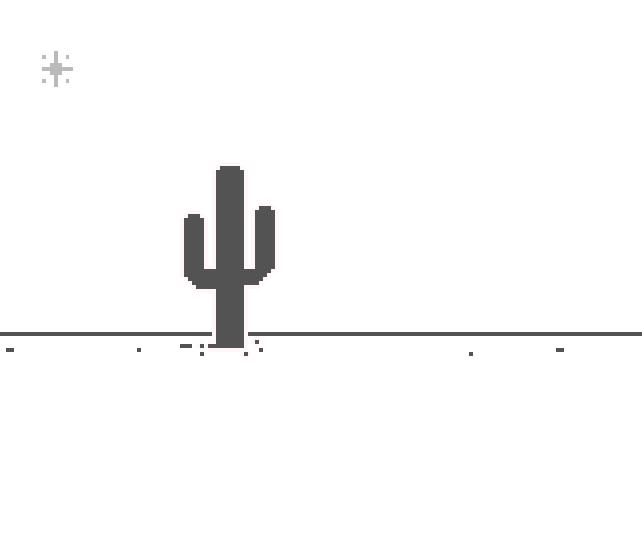cactus: (179, 159, 281, 363)
